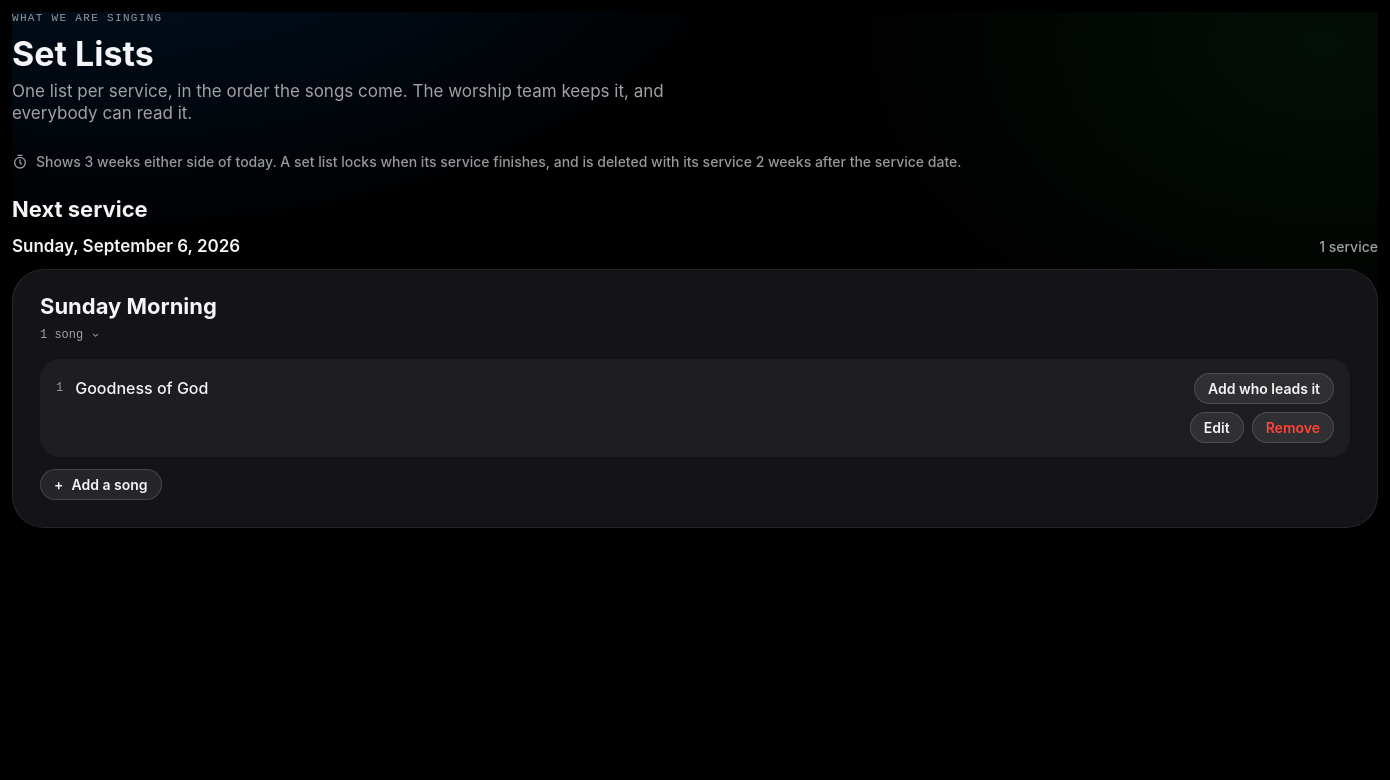
Scenario: SetListsPage › keeps the add form shut until somebody asks for it
Expected: the text "Goodness of God" is shown, [75,378,208,398]
Expected: the button "Add song" is not shown
Click the button "+ Add a song": (101, 484) [40,468,162,500]
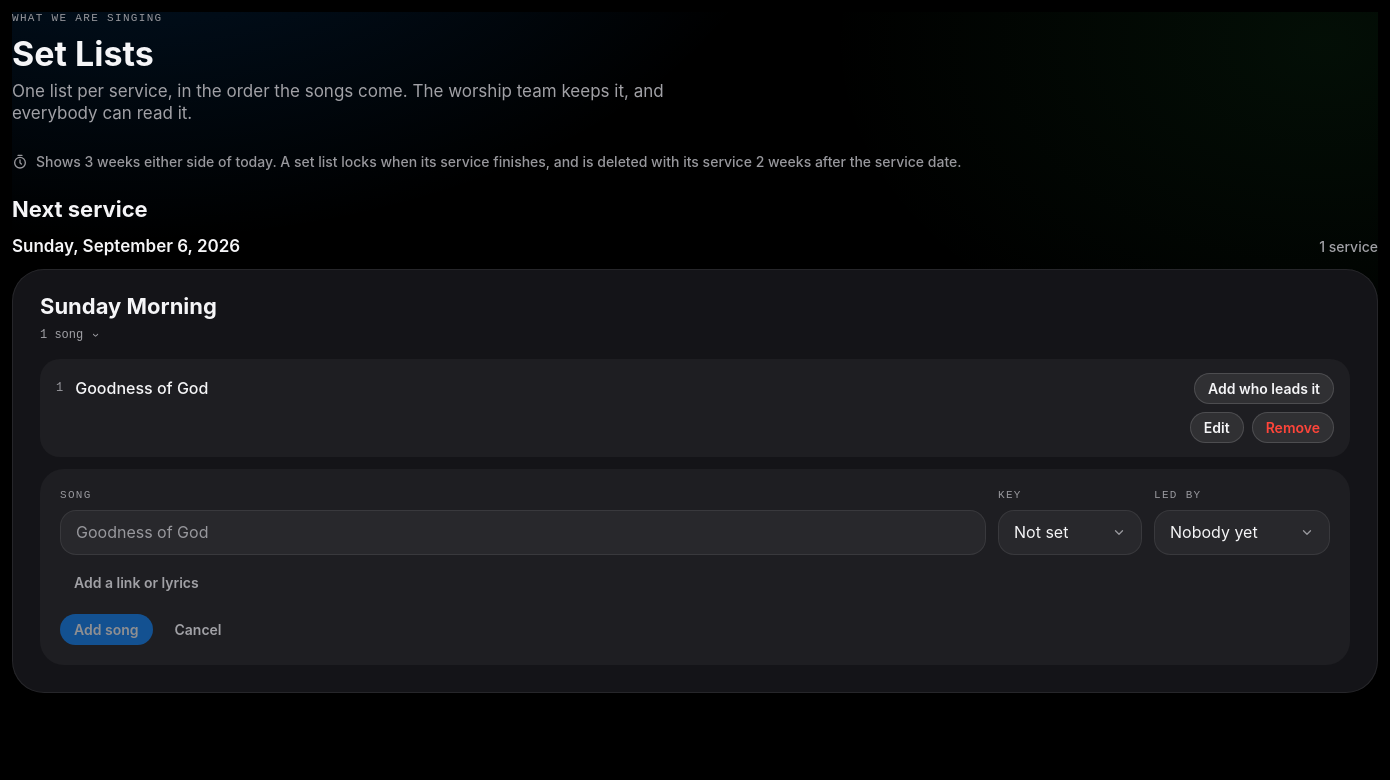
Result: the button "Add song" is shown at [60,614,152,644]
